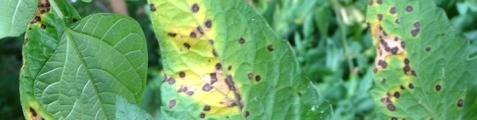Tomato Septoria leaf spot: (138, 0, 336, 120), (365, 0, 476, 120)
